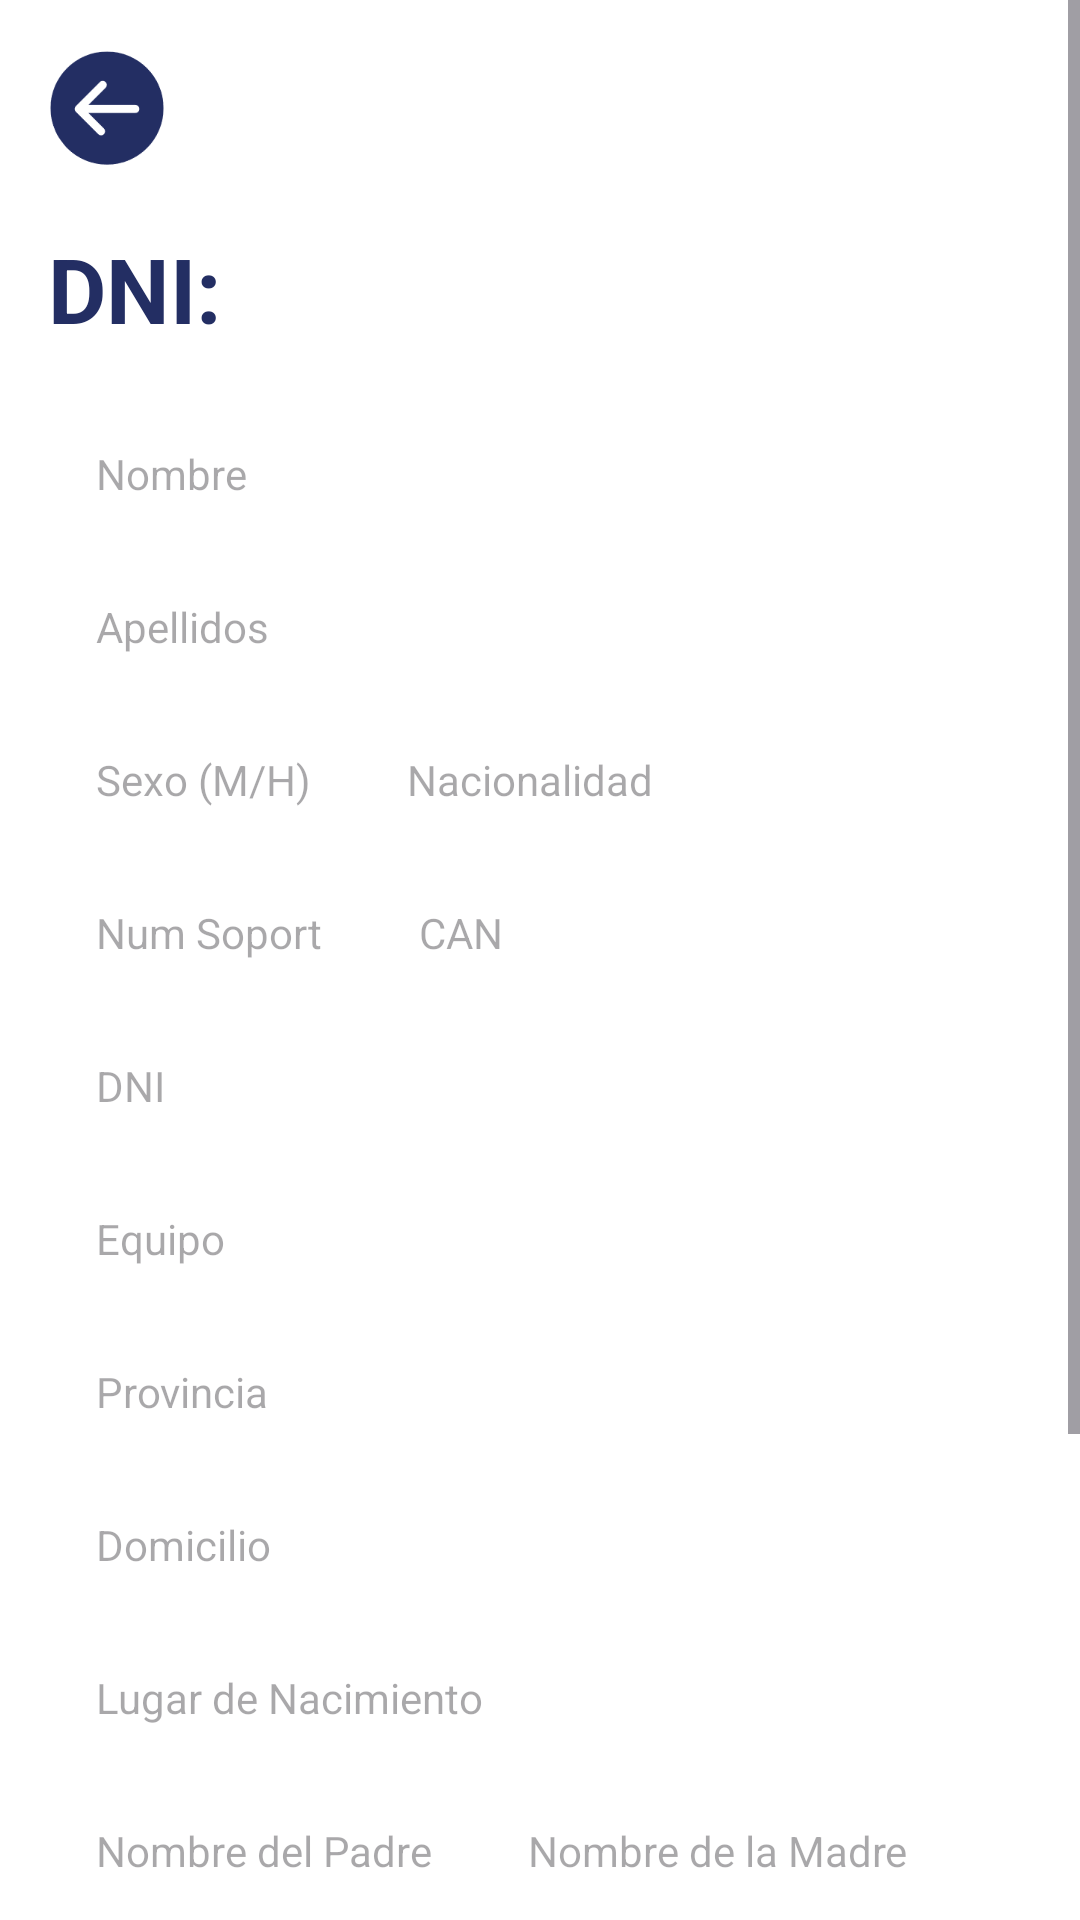

Point at icon controls on the screen. Image size 1080×1920, points as (x,y).
goback: (107,108)
